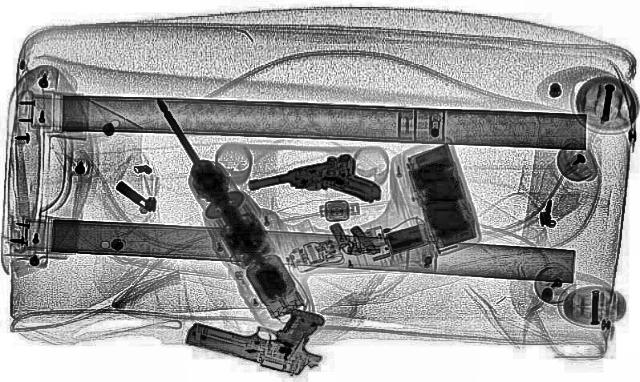Gun: (172, 289, 354, 379), (240, 151, 390, 225)
